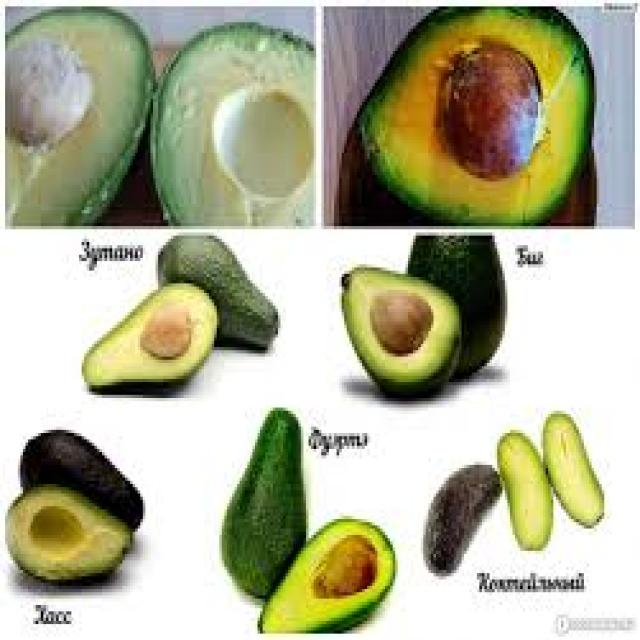avocado: (358, 4, 606, 226), (171, 0, 344, 231), (2, 4, 156, 232), (425, 436, 634, 570), (246, 503, 429, 640), (407, 222, 549, 388), (62, 272, 224, 409), (231, 403, 327, 602), (142, 228, 297, 350), (334, 260, 458, 408), (7, 419, 154, 524), (7, 478, 145, 585)
